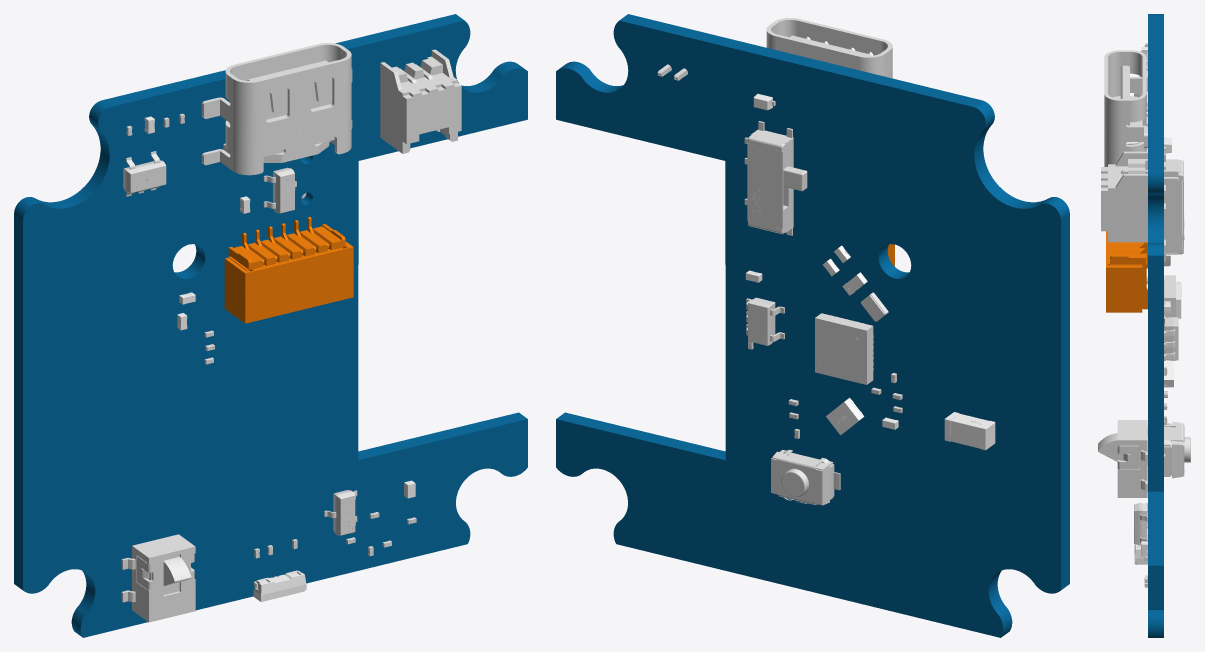
File: design-pcb.glb
3 renders of one model, left to right at view 1: azimuth 30°, elevation 25°; view 2: azimuth 150°, elevation 25°; view 3: azimuth 270°, elevation 25°, orthographic. The views are drawn at different scales.
Visible parts, largest first — view 1: Board~VKZX:mesh_0, USB1~USB-C-SMD_TYPE-C-6P-QT073~USB-C-SMD_TYPE-C-6P-QT073~eiy (×2), U1~CONN-SMD_6P-P1.00_MEGASTAR_ZX-SH1.0-6PWT~CONN-SMD_6P-P1.0, CN1~CONN-TH_530480210~CONN-TH_530480210~kXQj:mesh_255, SW3~SW-SMD_4P-L4.8-W3.7-P2.40-LS5.2-1~SW-SMD_4P-L4.8-W3.7-P2 (×2), LED2~LED-SMD_FM-3510RGBA-SG~LED-SMD_L3.5-W1.0-H1.2-FM-3510RG, U2~TSOT-23-5_L2.9-W1.6-P0.95-LS2.8-BL~TSOT-23-5_L2.9-W1.6-H1, Q2~SOT-23-3_L2.9-W1.3-P1.90-LS2.4-BR~SOT-23-3P_L2.9-W1.3-H1., U3~SOT-23-3_L2.9-W1.3-P1.90-LS2.4-BR~SOT-23-3P_L2.9-W1.3-H1.; view 2: Board~VKZX:mesh_0, SW2~SW-TH_MSK12C02~SW-SMD_3P-L6.6-W2.7-LS7.8-P1.50~77YD:mesh (×2), USB1~USB-C-SMD_TYPE-C-6P-QT073~USB-C-SMD_TYPE-C-6P-QT073~eiy, U6~VQFN-28_L4.0-W4.0-P0.40-BL-EP2.6~VQFN-28_L4.0-W4.0-H0.9-P, SW1~SW-SMD_L4.0-W2.9-LS5.0~SW-SMD_L4.0-W2.9-H2-LS5.0~HhK4:me, U4~ANT-SMD_L3.2-W1.6~ANT-SMD_L3.2-W1.6-H1.3~oFtC:mesh_240, U5~SOT-23-5_L2.9-W1.6-P0.95-LS2.8-BR~SOT-23-5_L2.9-W1.6-P0.9, X1~CRYSTAL-SMD_4P-L2.0-W1.6-BL~OSC-SMD_4P-L2.0-W1.6-H0.8~i3Q; view 3: Board~VKZX:mesh_0, USB1~USB-C-SMD_TYPE-C-6P-QT073~USB-C-SMD_TYPE-C-6P-QT073~eiy (×2), CN1~CONN-TH_530480210~CONN-TH_530480210~kXQj:mesh_255, U1~CONN-SMD_6P-P1.00_MEGASTAR_ZX-SH1.0-6PWT~CONN-SMD_6P-P1.0, SW3~SW-SMD_4P-L4.8-W3.7-P2.40-LS5.2-1~SW-SMD_4P-L4.8-W3.7-P2 (×2), SW2~SW-TH_MSK12C02~SW-SMD_3P-L6.6-W2.7-LS7.8-P1.50~77YD:mesh (×2), SW1~SW-SMD_L4.0-W2.9-LS5.0~SW-SMD_L4.0-W2.9-H2-LS5.0~HhK4:me, U5~SOT-23-5_L2.9-W1.6-P0.95-LS2.8-BR~SOT-23-5_L2.9-W1.6-P0.9, Q2~SOT-23-3_L2.9-W1.3-P1.90-LS2.4-BR~SOT-23-3P_L2.9-W1.3-H1., U6~VQFN-28_L4.0-W4.0-P0.40-BL-EP2.6~VQFN-28_L4.0-W4.0-H0.9-P, X1~CRYSTAL-SMD_4P-L2.0-W1.6-BL~OSC-SMD_4P-L2.0-W1.6-H0.8~i3Q, U4~ANT-SMD_L3.2-W1.6~ANT-SMD_L3.2-W1.6-H1.3~oFtC:mesh_240 (+1 smaller).
Part boxes in pixels (x1,y1,x2,y2): Board~VKZX:mesh_0: (14, 14, 527, 637); USB1~USB-C-SMD_TYPE-C-6P-QT073~USB-C-SMD_TYPE-C-6P-QT073~eiy (×2): (201, 43, 352, 175); U1~CONN-SMD_6P-P1.00_MEGASTAR_ZX-SH1.0-6PWT~CONN-SMD_6P-P1.0: (224, 217, 353, 323); CN1~CONN-TH_530480210~CONN-TH_530480210~kXQj:mesh_255: (380, 49, 461, 153); SW3~SW-SMD_4P-L4.8-W3.7-P2.40-LS5.2-1~SW-SMD_4P-L4.8-W3.7-P2 (×2): (121, 534, 195, 622); LED2~LED-SMD_FM-3510RGBA-SG~LED-SMD_L3.5-W1.0-H1.2-FM-3510RG: (253, 570, 306, 601); U2~TSOT-23-5_L2.9-W1.6-P0.95-LS2.8-BL~TSOT-23-5_L2.9-W1.6-H1: (123, 160, 166, 193); Q2~SOT-23-3_L2.9-W1.3-P1.90-LS2.4-BR~SOT-23-3P_L2.9-W1.3-H1.: (333, 490, 355, 535); U3~SOT-23-3_L2.9-W1.3-P1.90-LS2.4-BR~SOT-23-3P_L2.9-W1.3-H1.: (273, 167, 294, 213); Board~VKZX:mesh_0: (556, 14, 1069, 637); SW2~SW-TH_MSK12C02~SW-SMD_3P-L6.6-W2.7-LS7.8-P1.50~77YD:mesh (×2): (747, 121, 807, 235); USB1~USB-C-SMD_TYPE-C-6P-QT073~USB-C-SMD_TYPE-C-6P-QT073~eiy: (766, 18, 892, 78); U6~VQFN-28_L4.0-W4.0-P0.40-BL-EP2.6~VQFN-28_L4.0-W4.0-H0.9-P: (815, 313, 873, 384); SW1~SW-SMD_L4.0-W2.9-LS5.0~SW-SMD_L4.0-W2.9-H2-LS5.0~HhK4:me: (771, 449, 840, 505); U4~ANT-SMD_L3.2-W1.6~ANT-SMD_L3.2-W1.6-H1.3~oFtC:mesh_240: (944, 412, 995, 450); U5~SOT-23-5_L2.9-W1.6-P0.95-LS2.8-BR~SOT-23-5_L2.9-W1.6-P0.9: (746, 297, 784, 345); X1~CRYSTAL-SMD_4P-L2.0-W1.6-BL~OSC-SMD_4P-L2.0-W1.6-H0.8~i3Q: (826, 398, 864, 435); Board~VKZX:mesh_0: (1148, 14, 1163, 637); USB1~USB-C-SMD_TYPE-C-6P-QT073~USB-C-SMD_TYPE-C-6P-QT073~eiy (×2): (1104, 50, 1147, 166); CN1~CONN-TH_530480210~CONN-TH_530480210~kXQj:mesh_255: (1101, 151, 1178, 242); U1~CONN-SMD_6P-P1.00_MEGASTAR_ZX-SH1.0-6PWT~CONN-SMD_6P-P1.0: (1106, 231, 1147, 312); SW3~SW-SMD_4P-L4.8-W3.7-P2.40-LS5.2-1~SW-SMD_4P-L4.8-W3.7-P2 (×2): (1098, 420, 1147, 497); SW2~SW-TH_MSK12C02~SW-SMD_3P-L6.6-W2.7-LS7.8-P1.50~77YD:mesh (×2): (1164, 153, 1184, 261); SW1~SW-SMD_L4.0-W2.9-LS5.0~SW-SMD_L4.0-W2.9-H2-LS5.0~HhK4:me: (1164, 421, 1190, 478); U5~SOT-23-5_L2.9-W1.6-P0.95-LS2.8-BR~SOT-23-5_L2.9-W1.6-P0.9: (1164, 316, 1178, 360); Q2~SOT-23-3_L2.9-W1.3-P1.90-LS2.4-BR~SOT-23-3P_L2.9-W1.3-H1.: (1134, 503, 1147, 544); U6~VQFN-28_L4.0-W4.0-P0.40-BL-EP2.6~VQFN-28_L4.0-W4.0-H0.9-P: (1164, 275, 1175, 339); X1~CRYSTAL-SMD_4P-L2.0-W1.6-BL~OSC-SMD_4P-L2.0-W1.6-H0.8~i3Q: (1164, 360, 1173, 387); U4~ANT-SMD_L3.2-W1.6~ANT-SMD_L3.2-W1.6-H1.3~oFtC:mesh_240: (1176, 281, 1181, 318).
Size of the model in its own units: 38.87 by 39.55 by 6.93.
